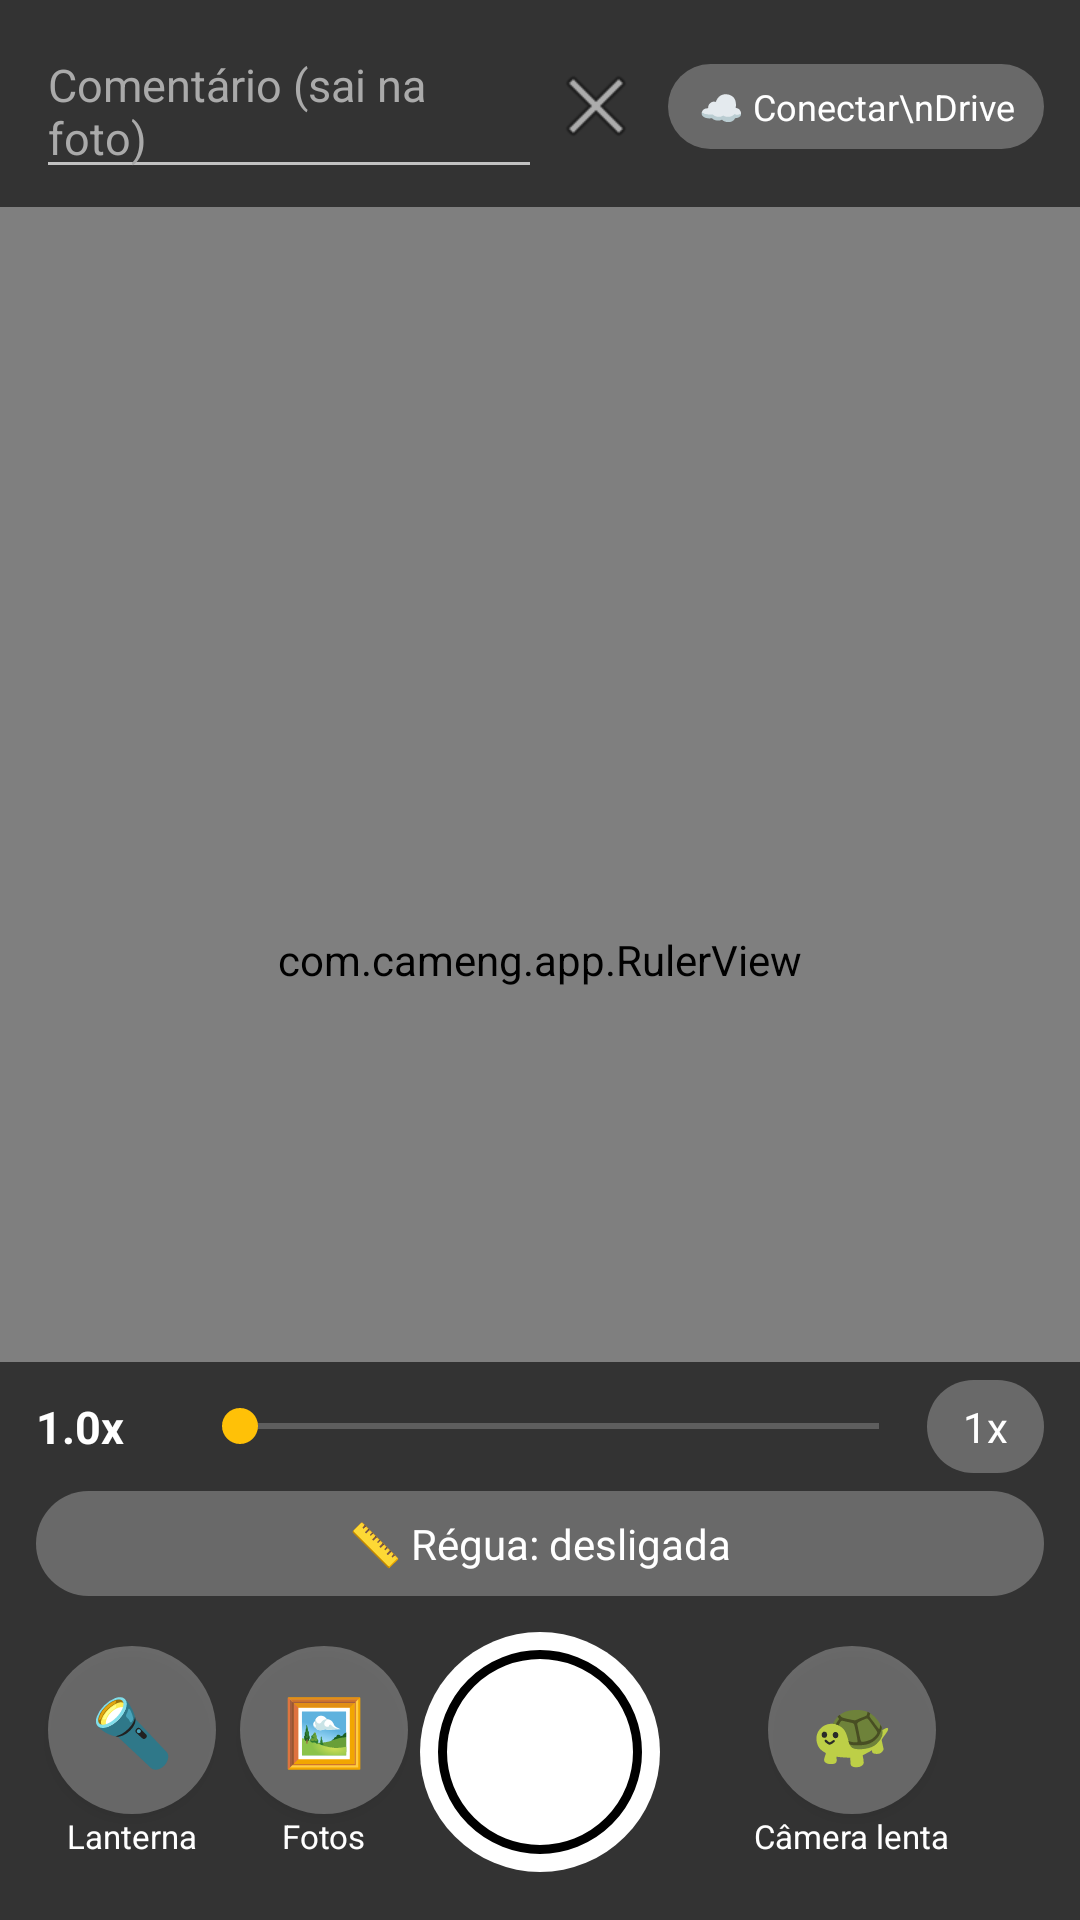

Screen size 1080w x 1920h. Icon name, then its center in pixels as (x=x, y=y):
Limpar comentário: (x=596, y=106)
Tirar foto: (x=540, y=1752)
